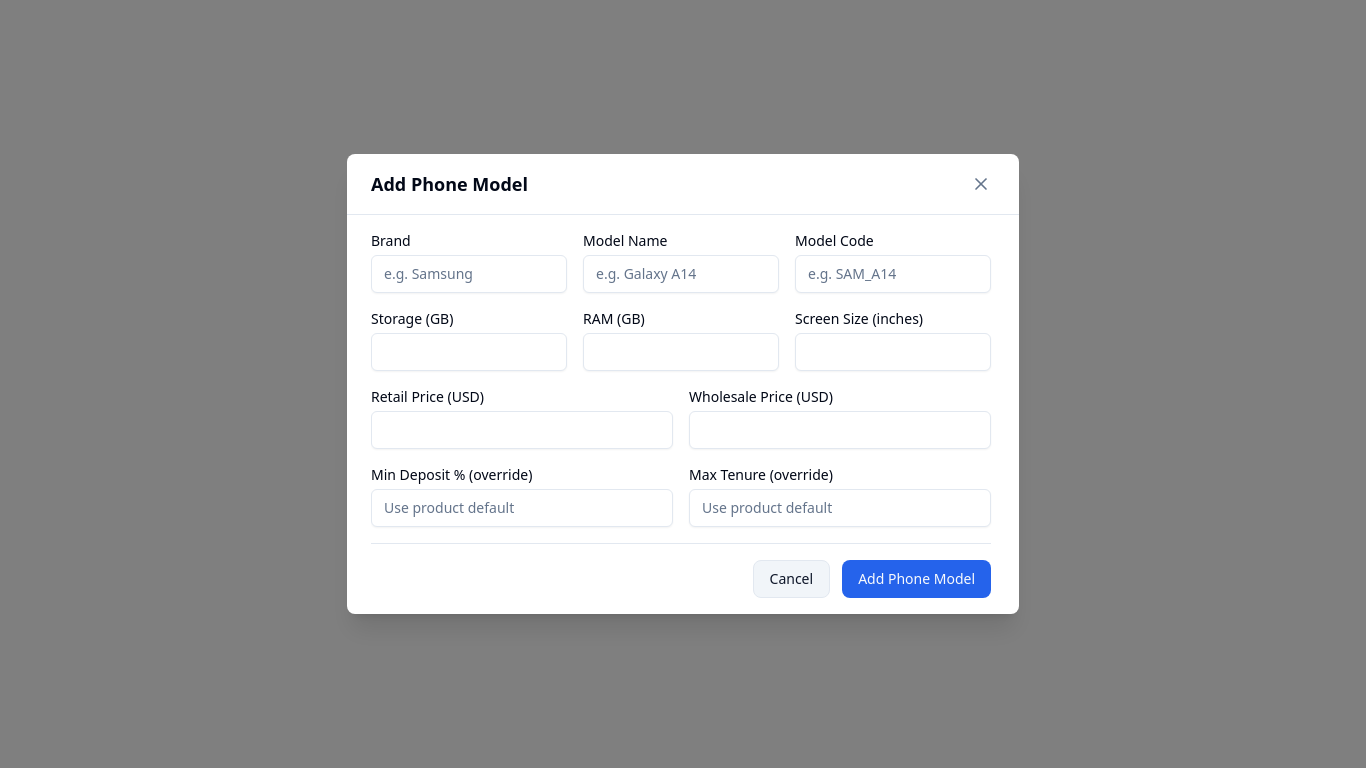
Test: DeviceModelForm › validates retail and wholesale prices > 0
Type "Samsung" into the field labelled "Brand" at (469, 274), box [371, 255, 567, 293]
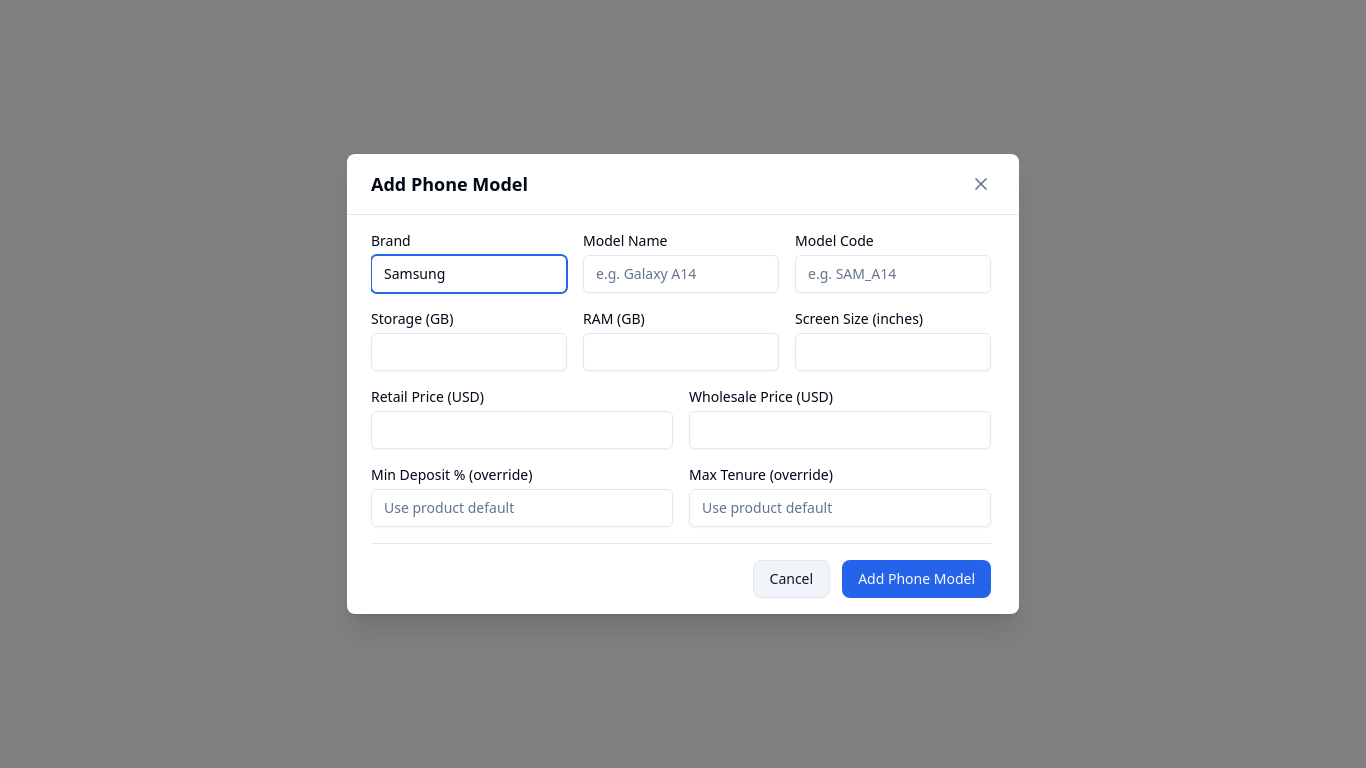
Type "Galaxy A14" into the field labelled "Model Name" at (681, 274), box [583, 255, 779, 293]
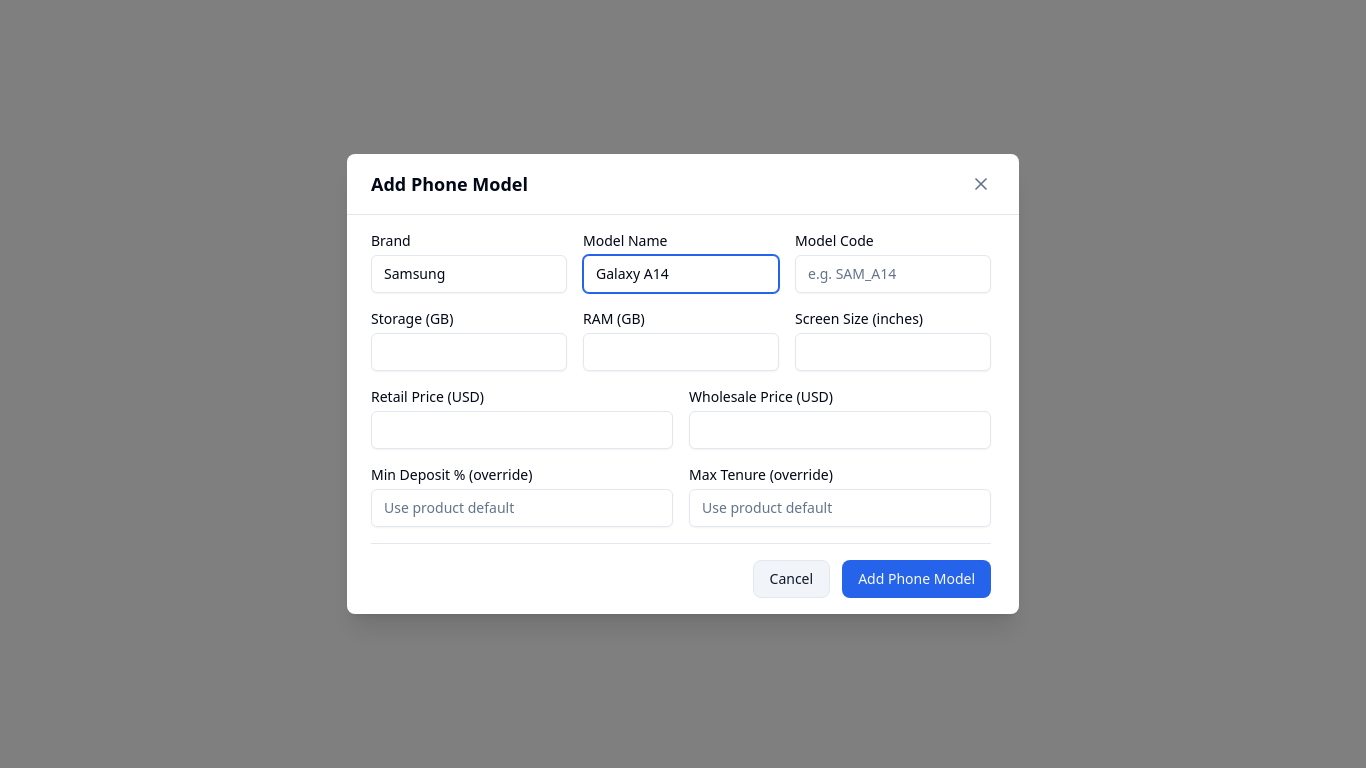
Type "SAM_A14" into the field labelled "Model Code" at (893, 274), box [795, 255, 991, 293]
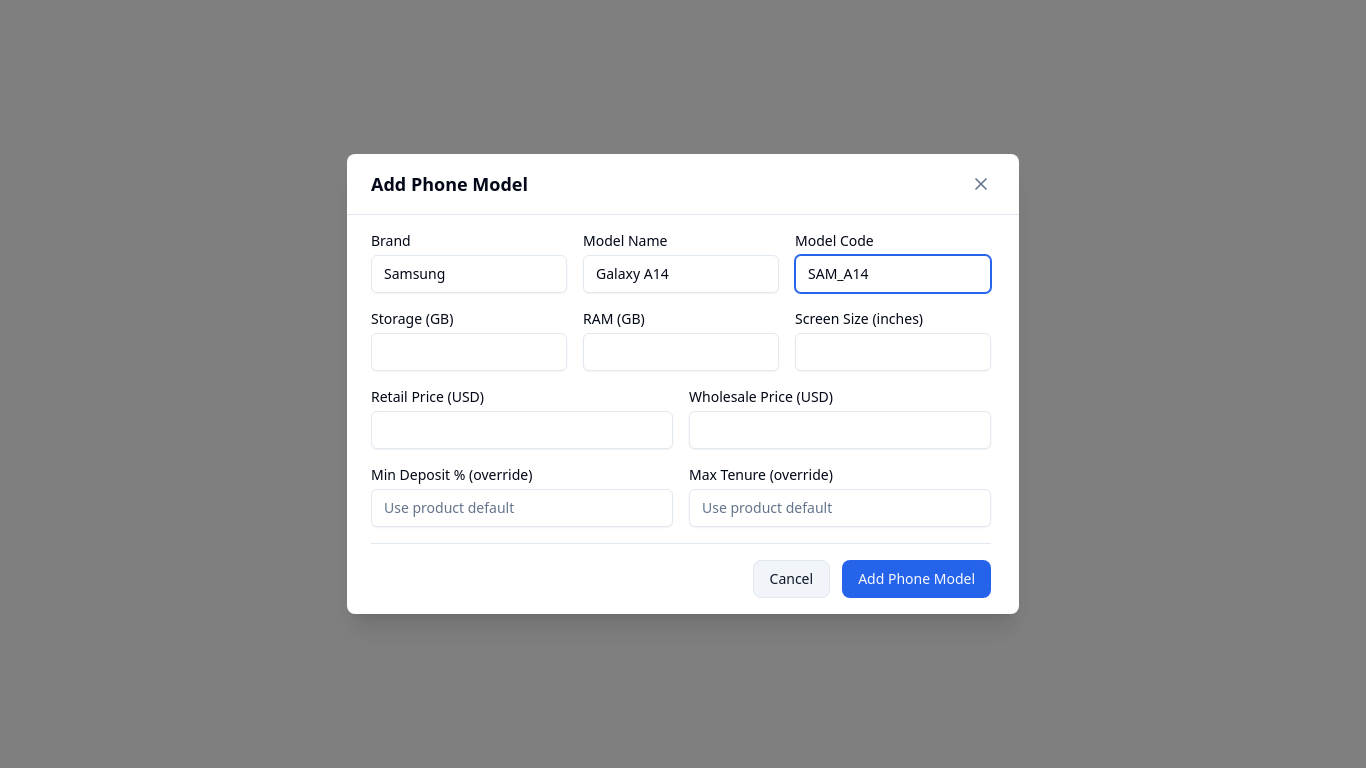
Type "0" into the number field labelled "Retail Price (USD)" at (522, 430), box [371, 411, 673, 449]
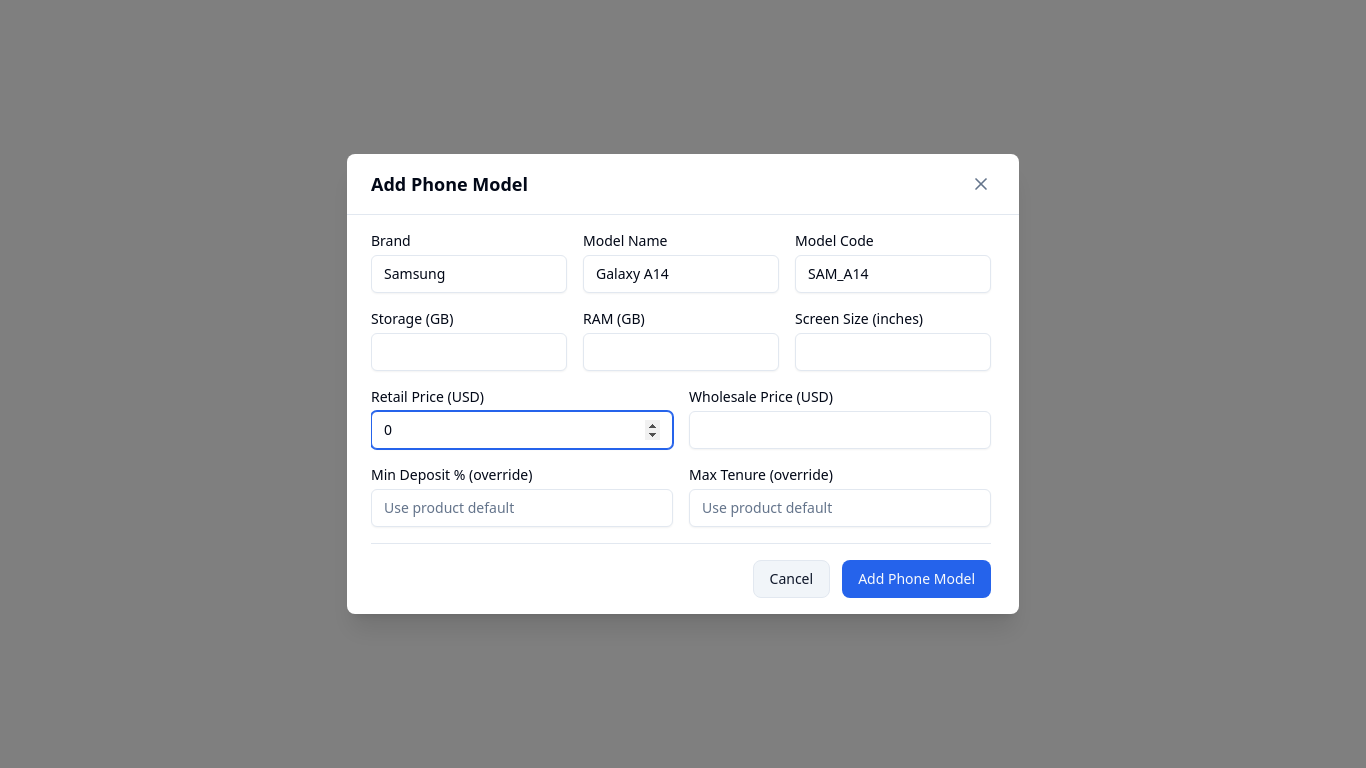
Type "0" into the number field labelled "Wholesale Price (USD)" at (840, 430), box [689, 411, 991, 449]
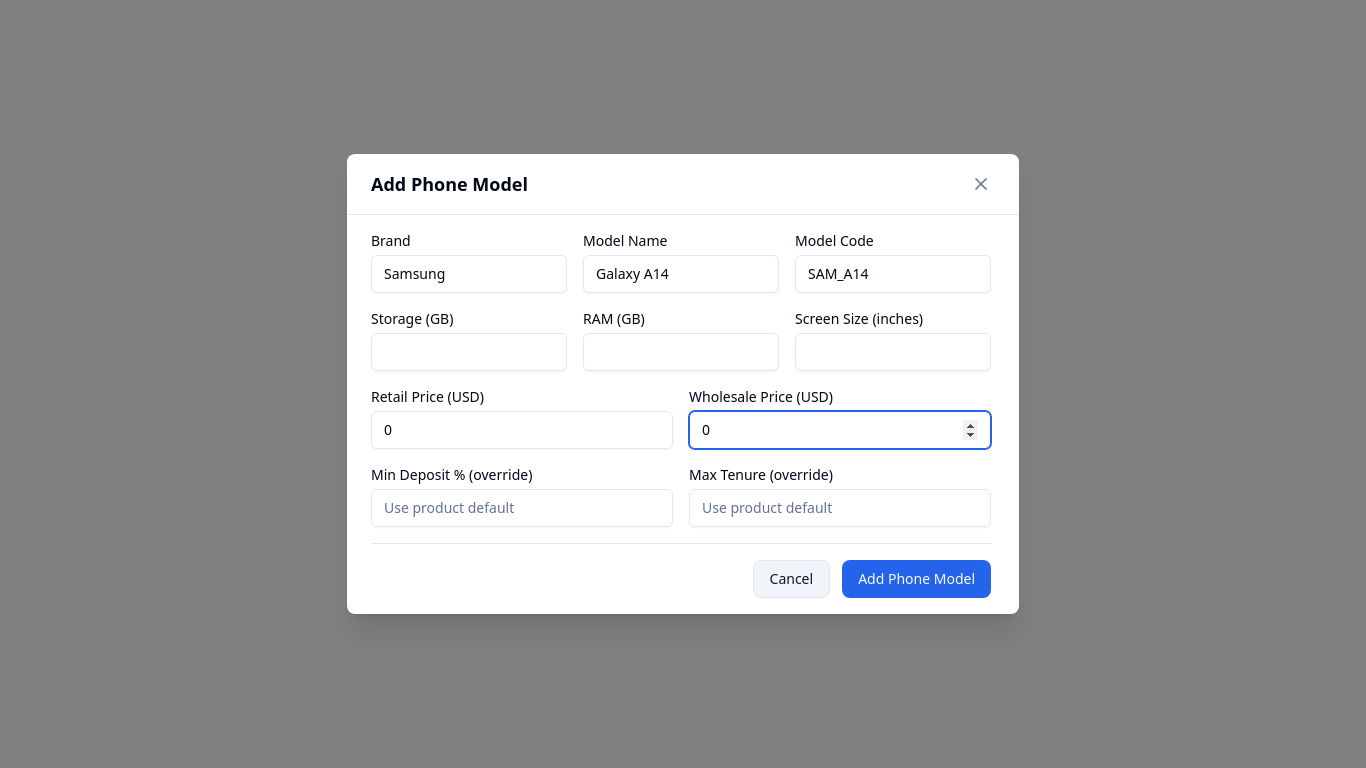
Click the button "Add Phone Model" at (917, 579), box [842, 560, 991, 598]
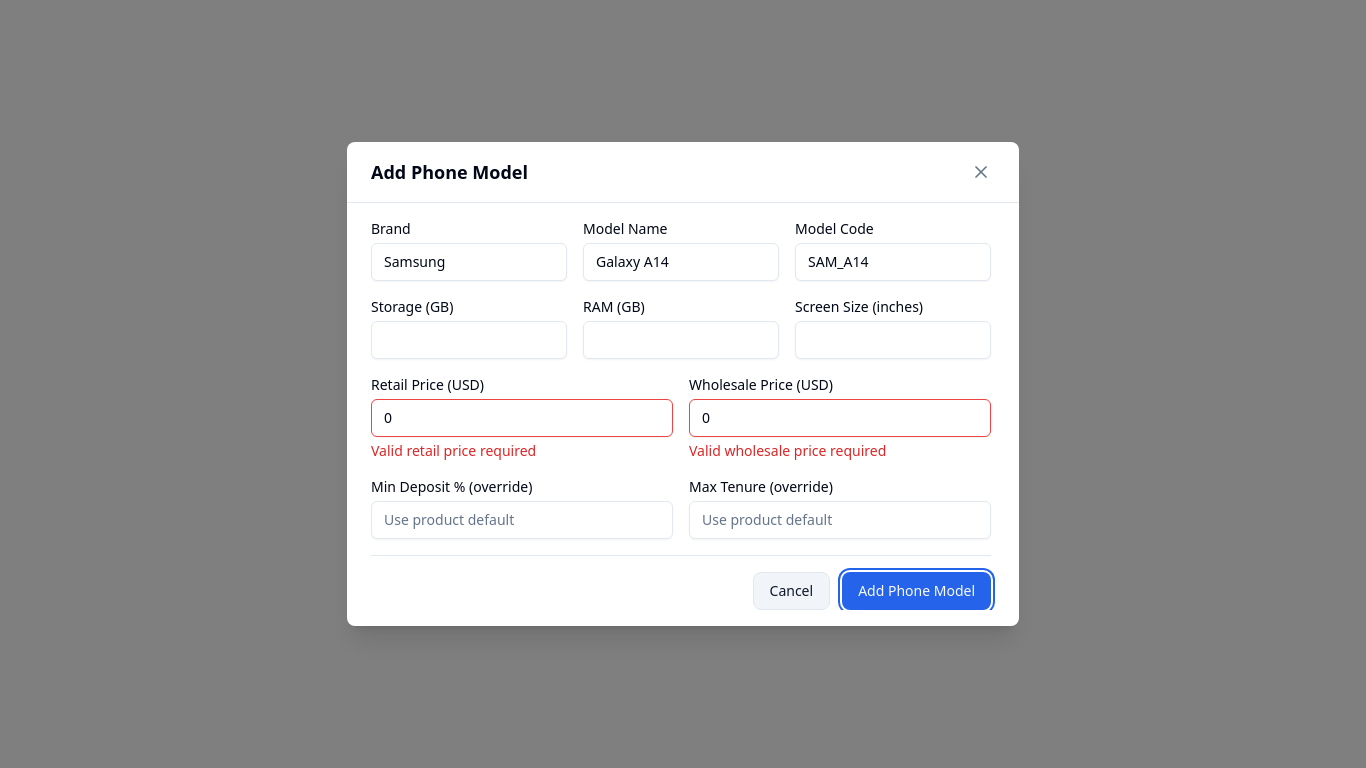
Result: the text "Valid retail price required" is shown at [371, 441, 536, 460]
